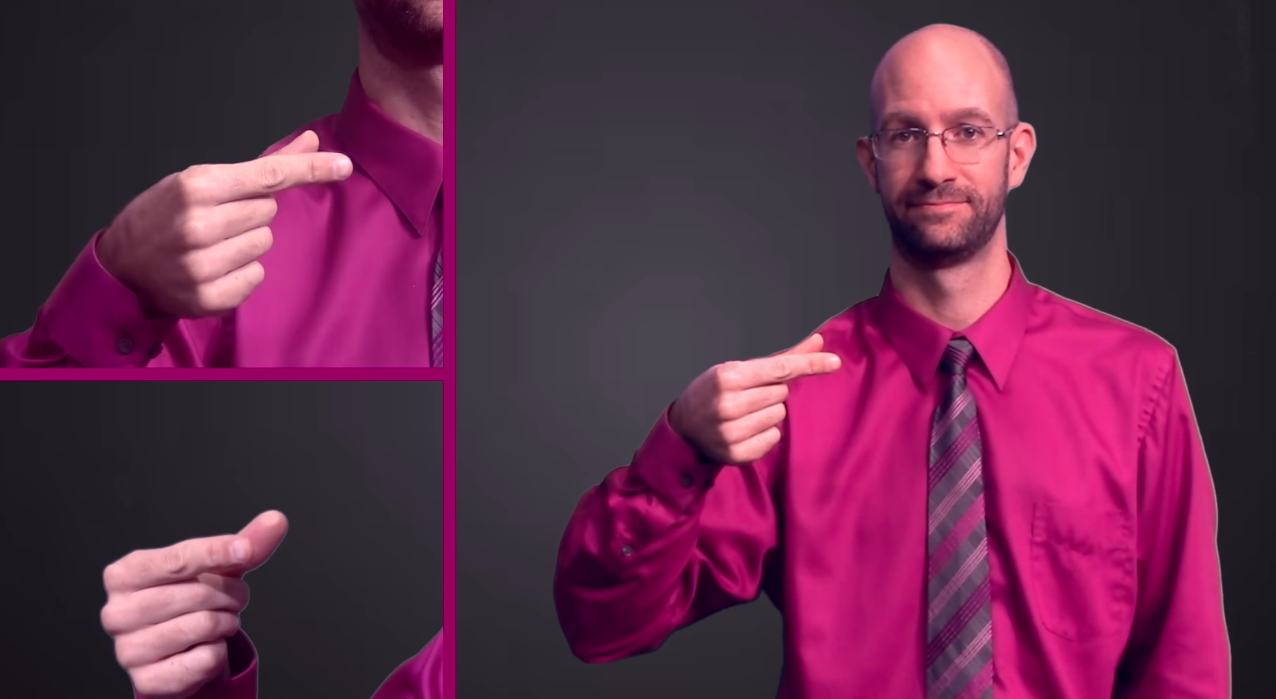g: (63, 119, 363, 321), (85, 502, 317, 699), (660, 329, 850, 469)
